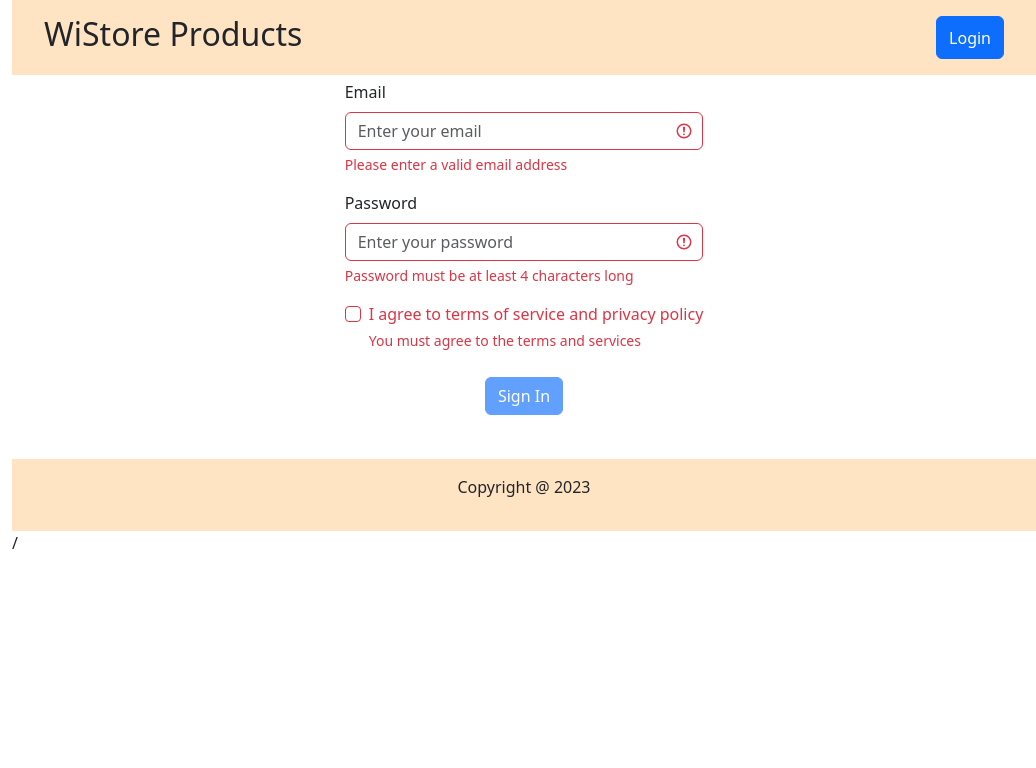
Form doğru bilgiler ile doldurulunca form submit oluyor
Click the button "Login" at (970, 38), box [936,16,1004,59]
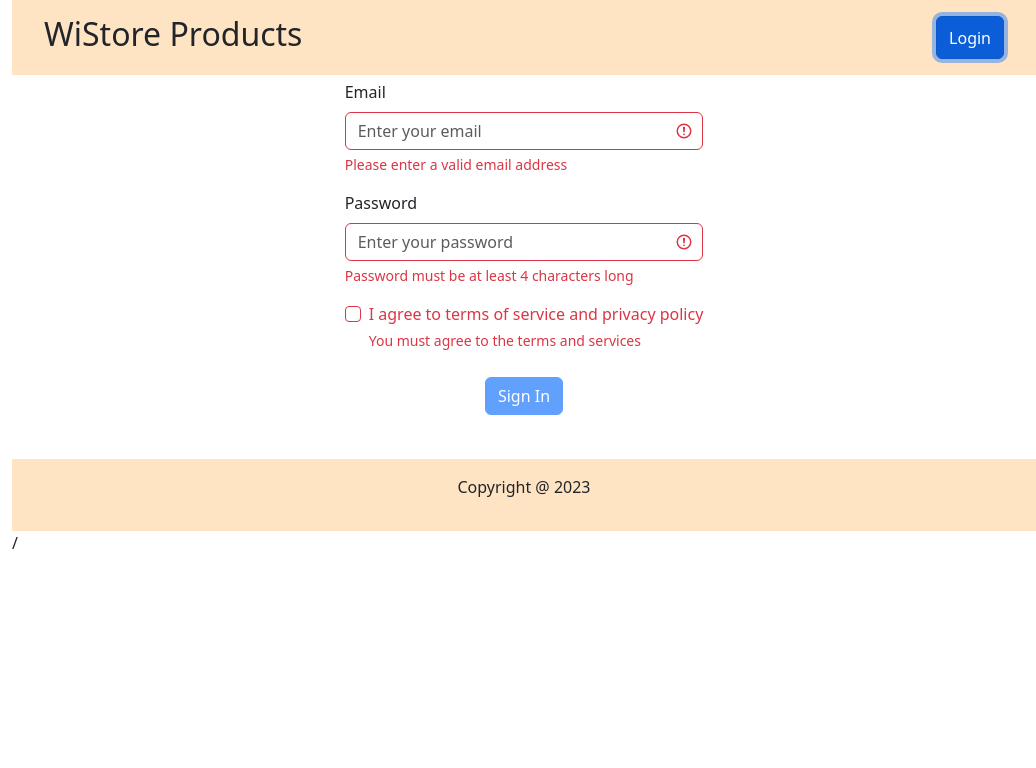
Type "erdem.guntay@wit.com.tr" into the field with placeholder "Enter your email" at (524, 131), box [345,112,703,150]
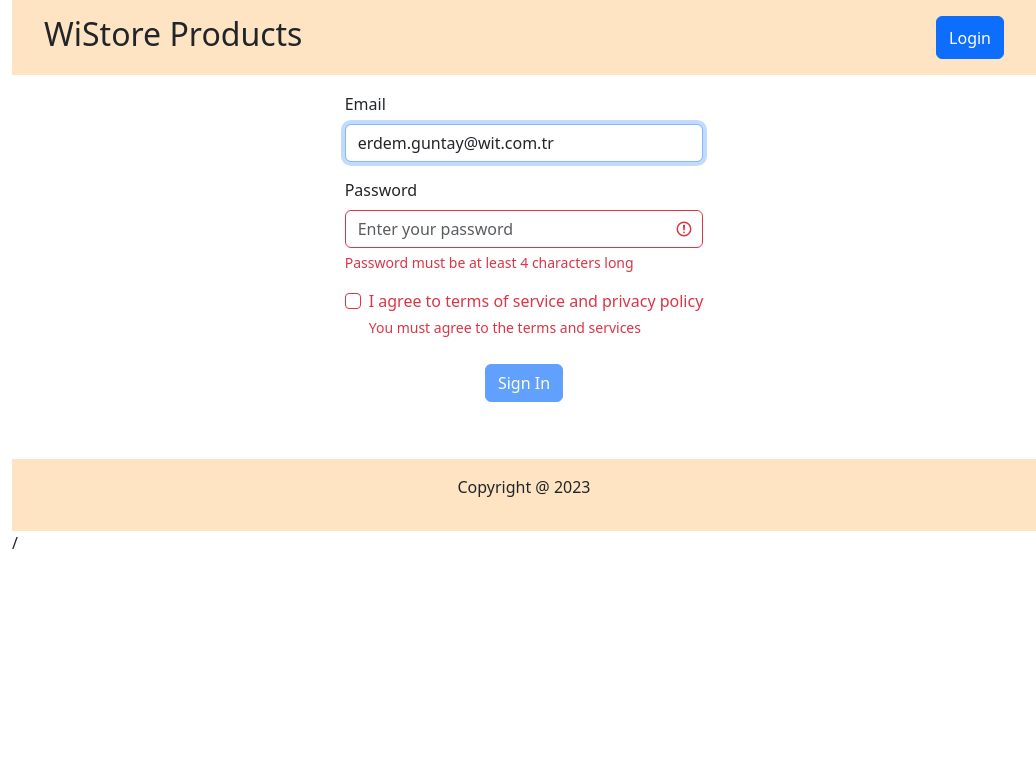
Type "9fxIH0GXesEwH_I" into the password field with placeholder "Enter your password" at (524, 229), box [345,210,703,248]
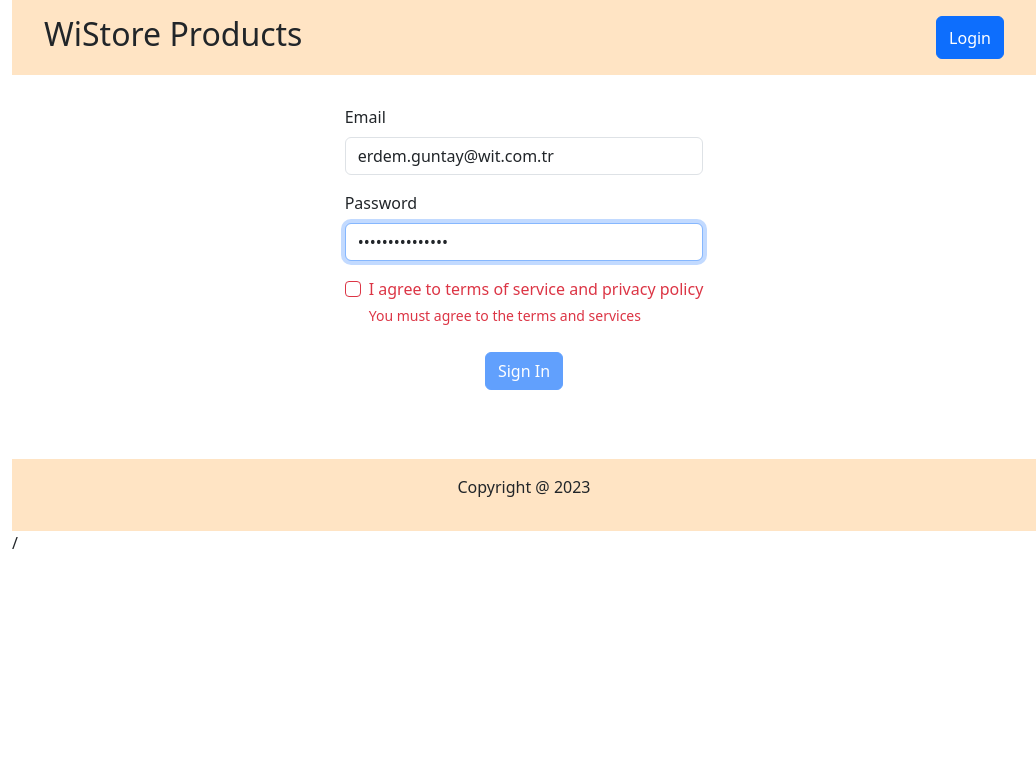
Click the checkbox labelled "I agree to terms of service and privacy policy" at (353, 289), box [345,281,361,297]
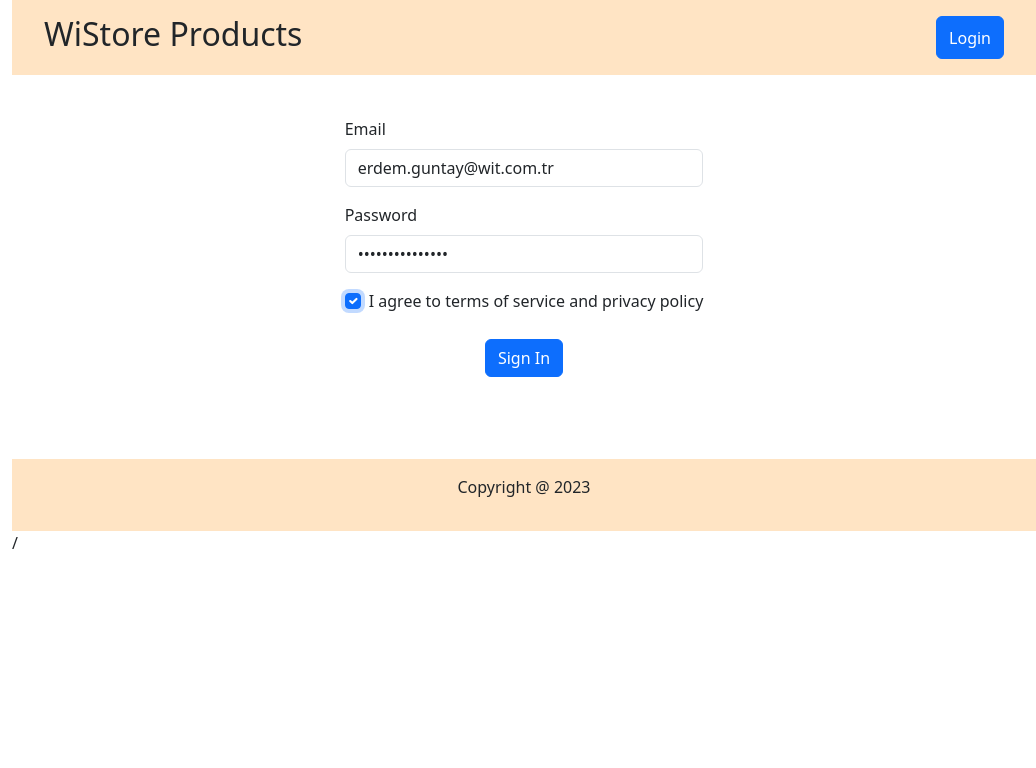
Now the button "Sign In" is enabled
Click the button "Sign In" at (524, 358), box [485,339,563,377]
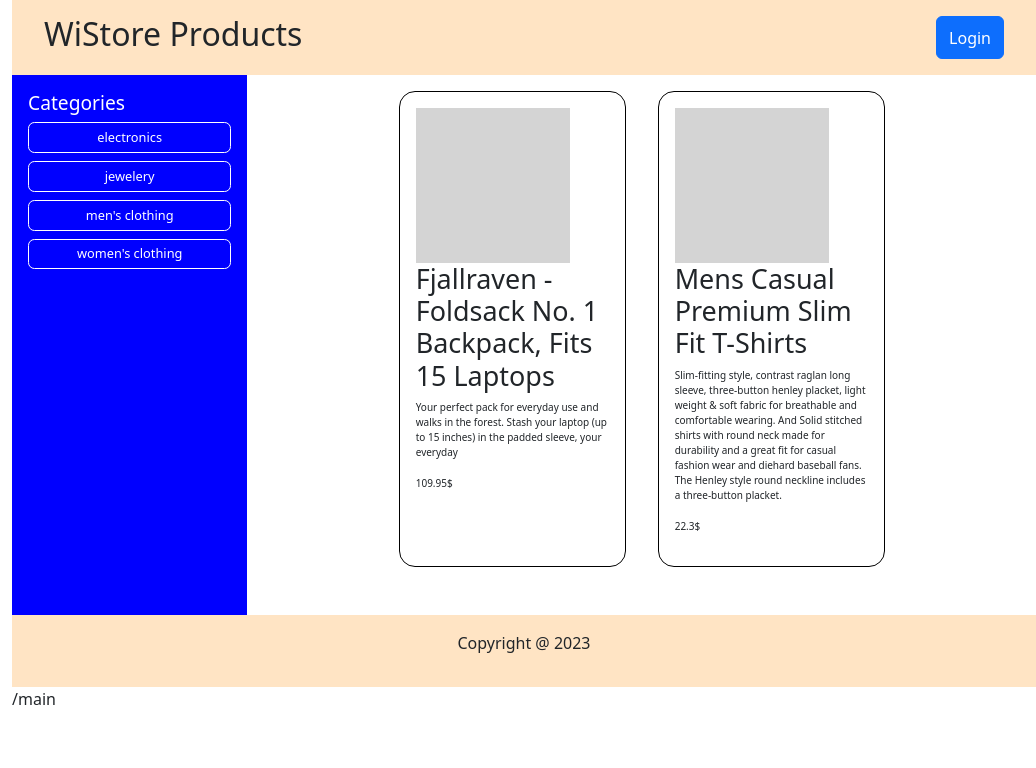
Now the text "/main" is shown, box [12,688,56,710]
